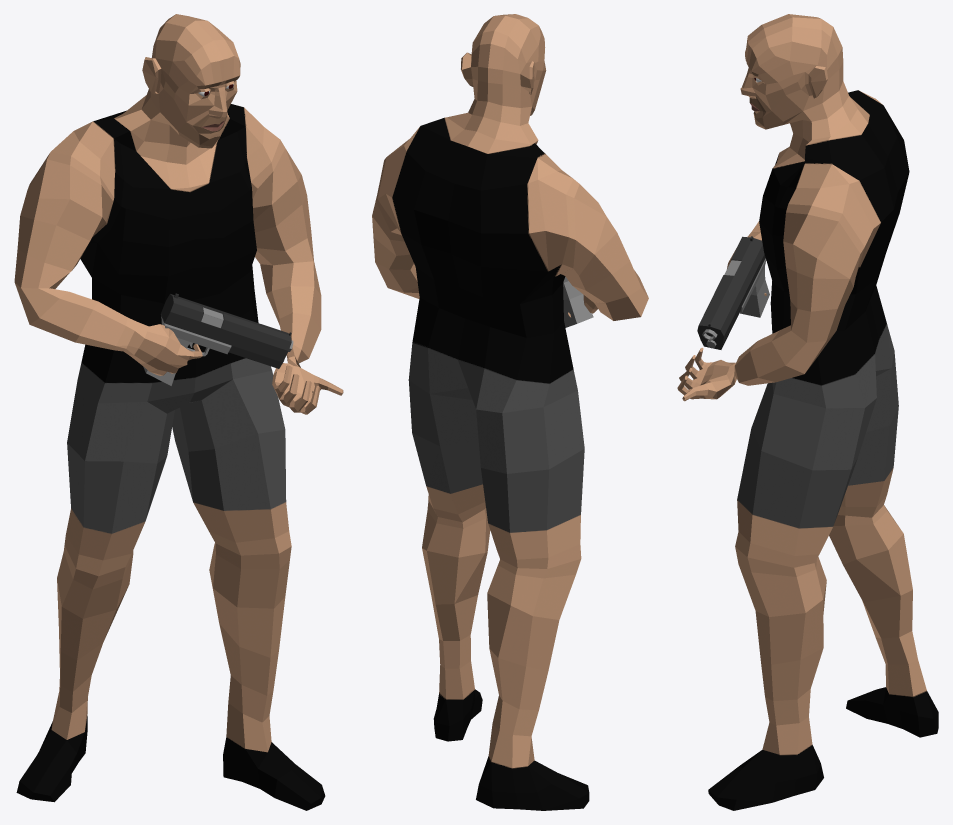
The model's file is PlayerIdle(105).obj.
3 renders of one model, left to right at view 1: azimuth 30°, elevation 25°; view 2: azimuth 150°, elevation 25°; view 3: azimuth 270°, elevation 25°, orthographic. The views are drawn at different scales.
Visible parts, largest first — view 1: Plane002, Box003; view 2: Plane002, Box003; view 3: Plane002, Box003.
Part boxes in pixels (left/top/right/bottom): Plane002: left=14, top=14, right=343, bottom=810; Box003: left=143, top=293, right=293, bottom=385; Plane002: left=372, top=14, right=648, bottom=810; Box003: left=563, top=277, right=593, bottom=327; Plane002: left=677, top=14, right=938, bottom=810; Box003: left=697, top=236, right=769, bottom=349.
Size of the model in its own units: 694 by 1803 by 572.
